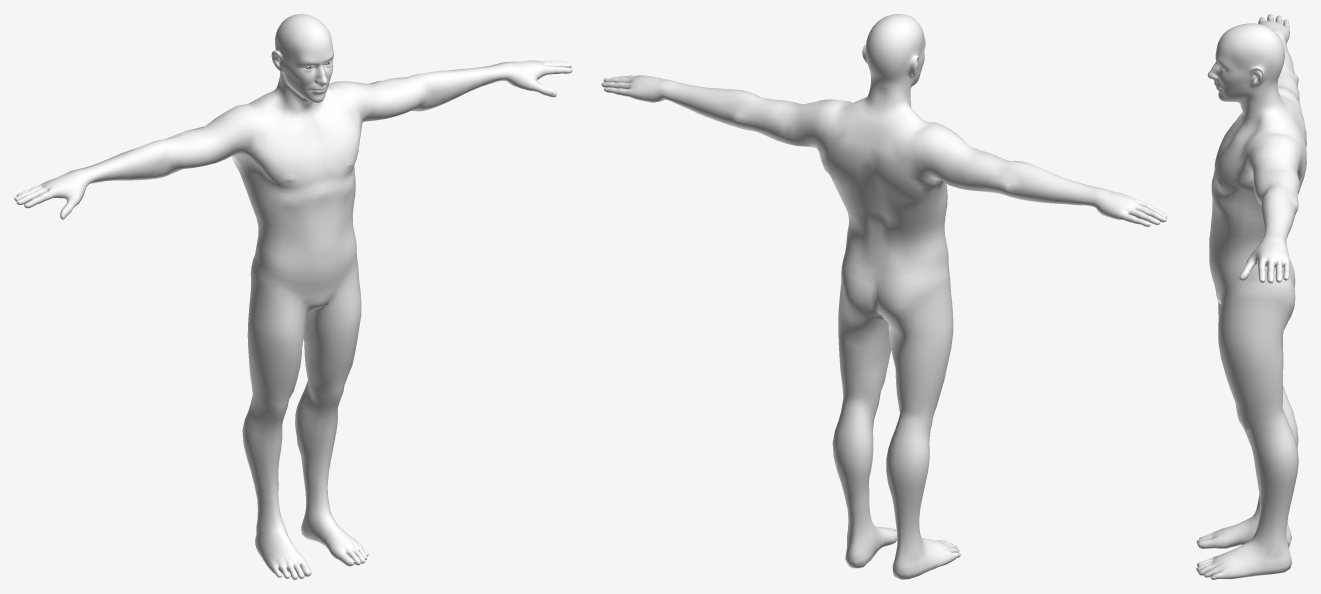
Rendered from MALE.obj.
3 views of the same model, side by side, from view 1: azimuth 30°, elevation 25°; view 2: azimuth 150°, elevation 25°; view 3: azimuth 270°, elevation 25° (orthographic).
Visible parts, largest first — view 1: Body; view 2: Body; view 3: Body.
Boxes of the visible parts, bbox=[...] form: Body: bbox=[14, 14, 572, 579]; Body: bbox=[601, 14, 1167, 579]; Body: bbox=[1196, 14, 1306, 579].
Size of the model in its own units: 194 by 179 by 33.71.
Materials: 1 (1 with a texture image).
